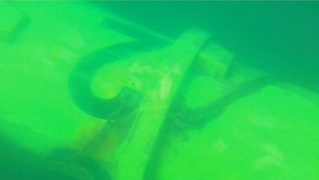2: (67, 16, 173, 120)
pipe: (1, 1, 319, 180)
